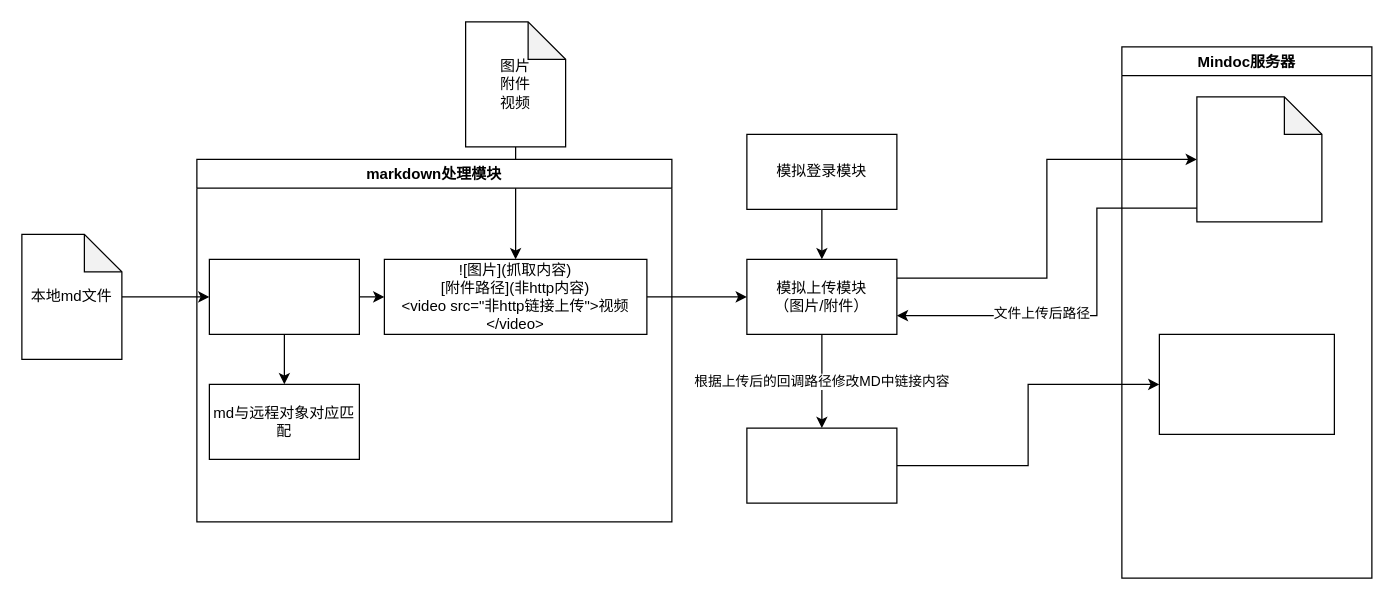
Image size: 1394x600. Some labels were removed from this diagram. Here are the shapes that lost their labels. From the top down, the box of each, then its label:
(1196, 96, 1322, 222): MinDoc文件系统
(208, 258, 359, 334): md扫描模块
(1158, 333, 1334, 434): mindoc md对象
(746, 427, 897, 503): 模拟发送md模块
